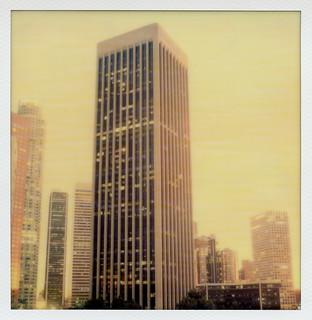building: (90, 21, 198, 310), (43, 188, 68, 308)
